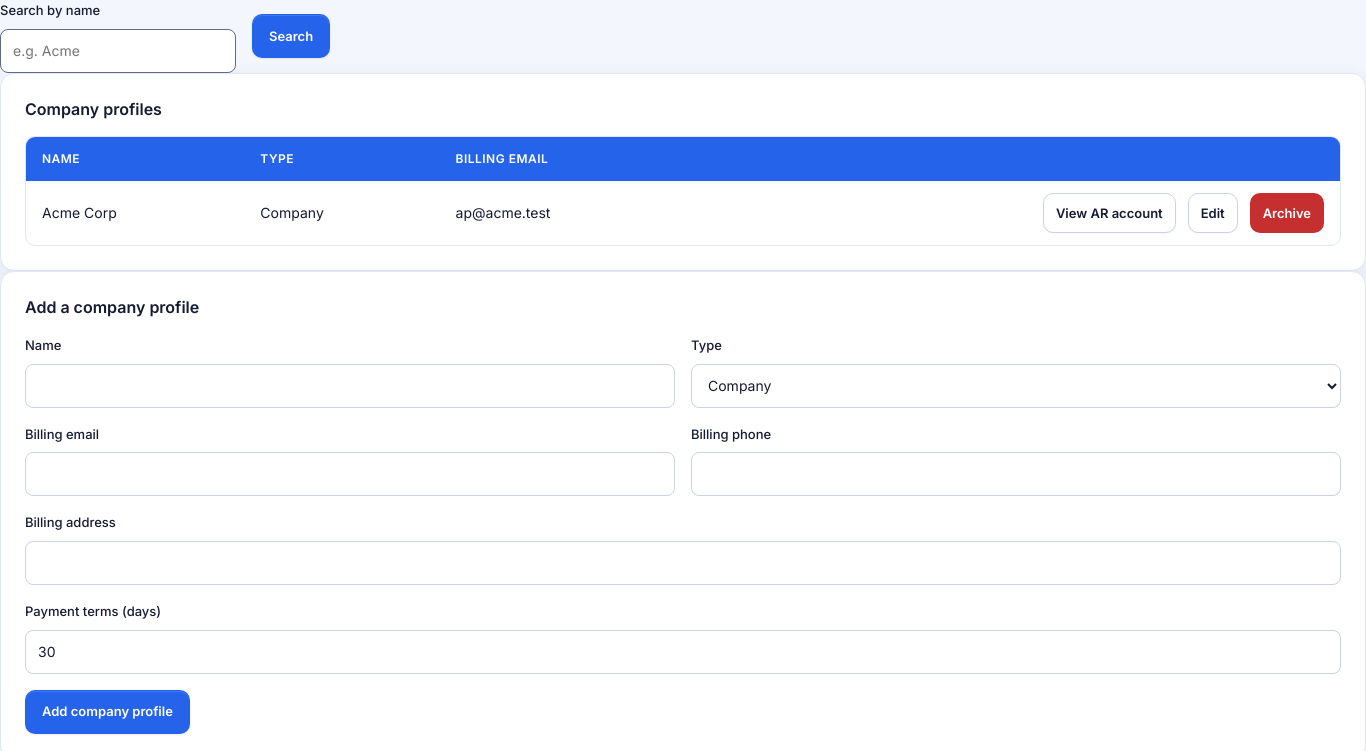
Test: <CompanyProfilesTab> › surfaces a real backend error on a failed create
This screenshot has width=1366, height=751.
Expected: the text "Acme Corp" is shown, [26,181,244,245]
Type "Beta LLC" into the field labelled "Name" at coordinates (350, 386), box [25,364,675,408]
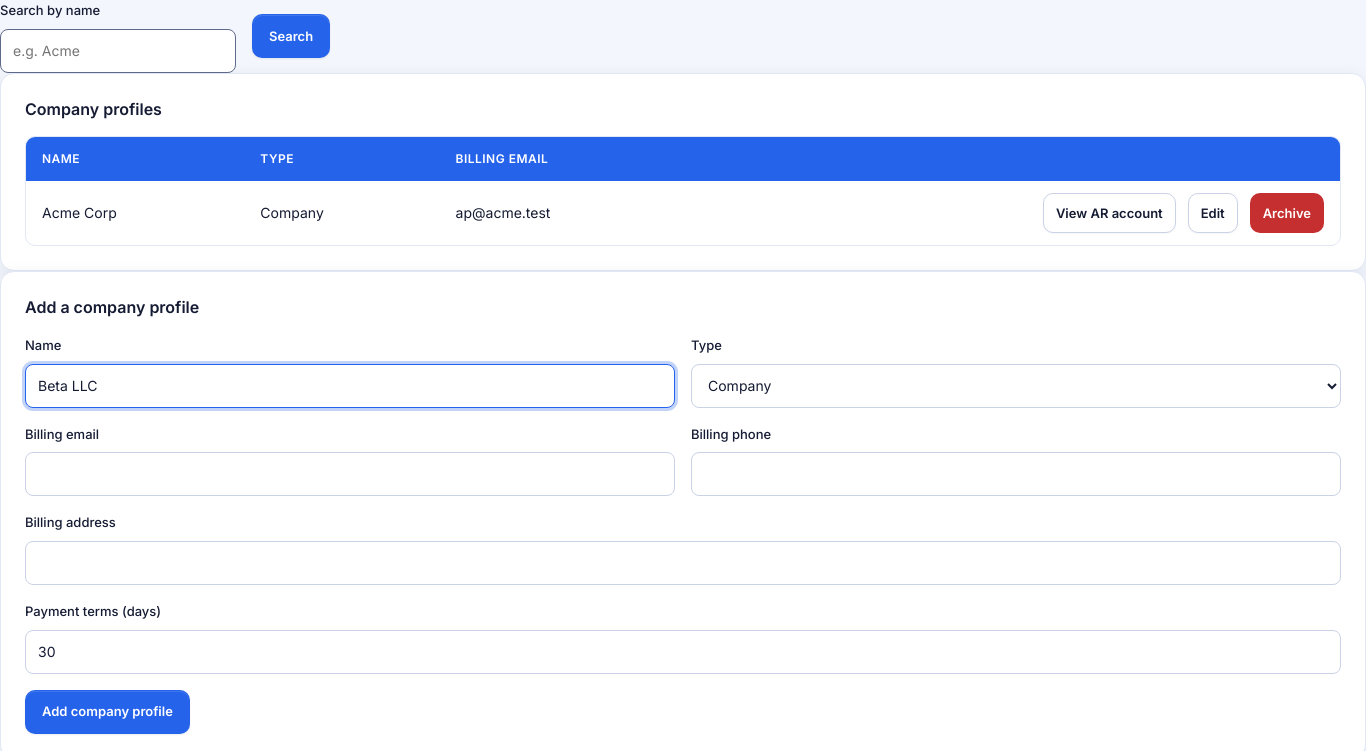
Click the button "Add company profile" at coordinates (107, 712), box [25,690,190,734]
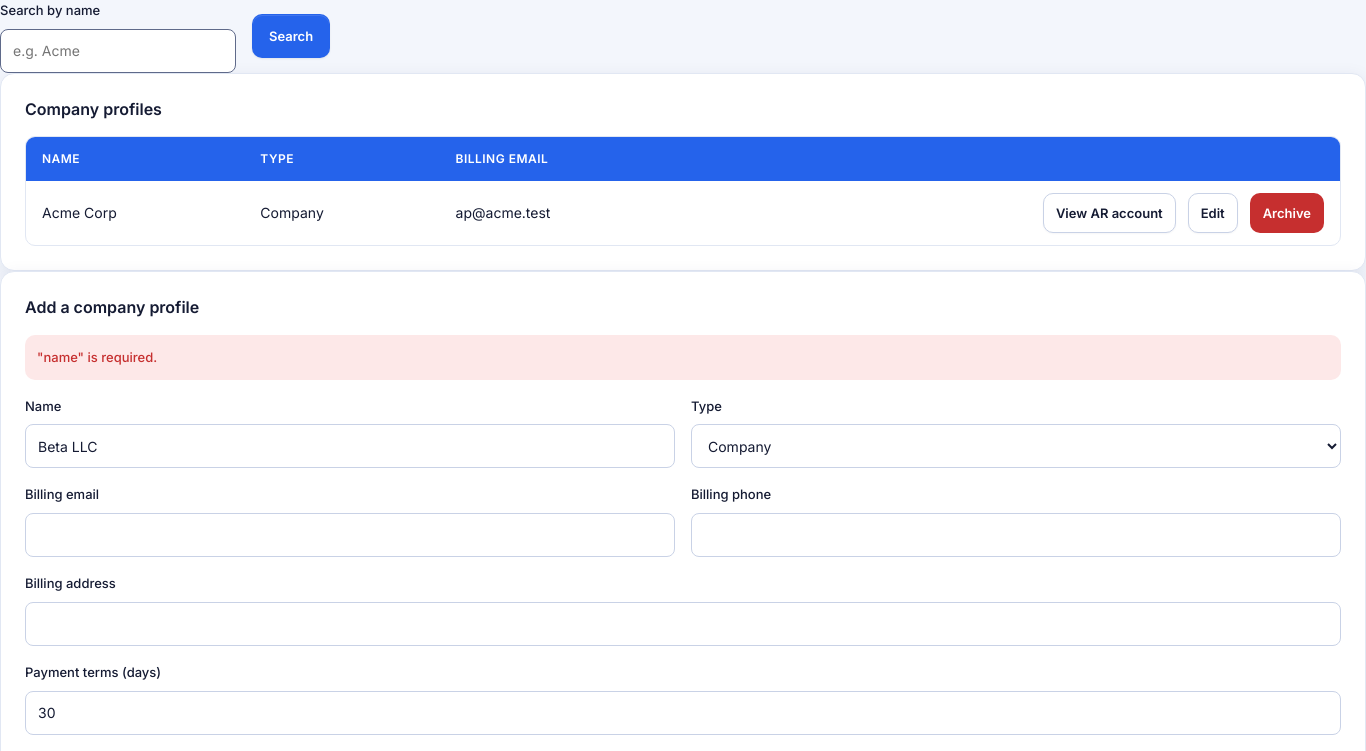
Result: the message shows "is required" at [37,349,157,365]
